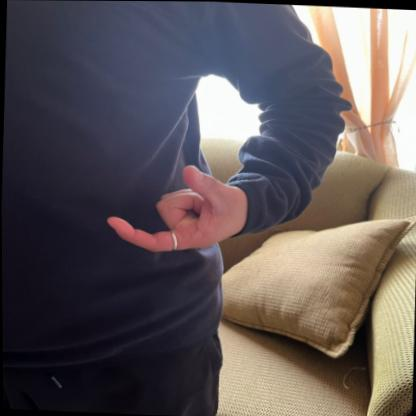G: (96, 155, 253, 259)
